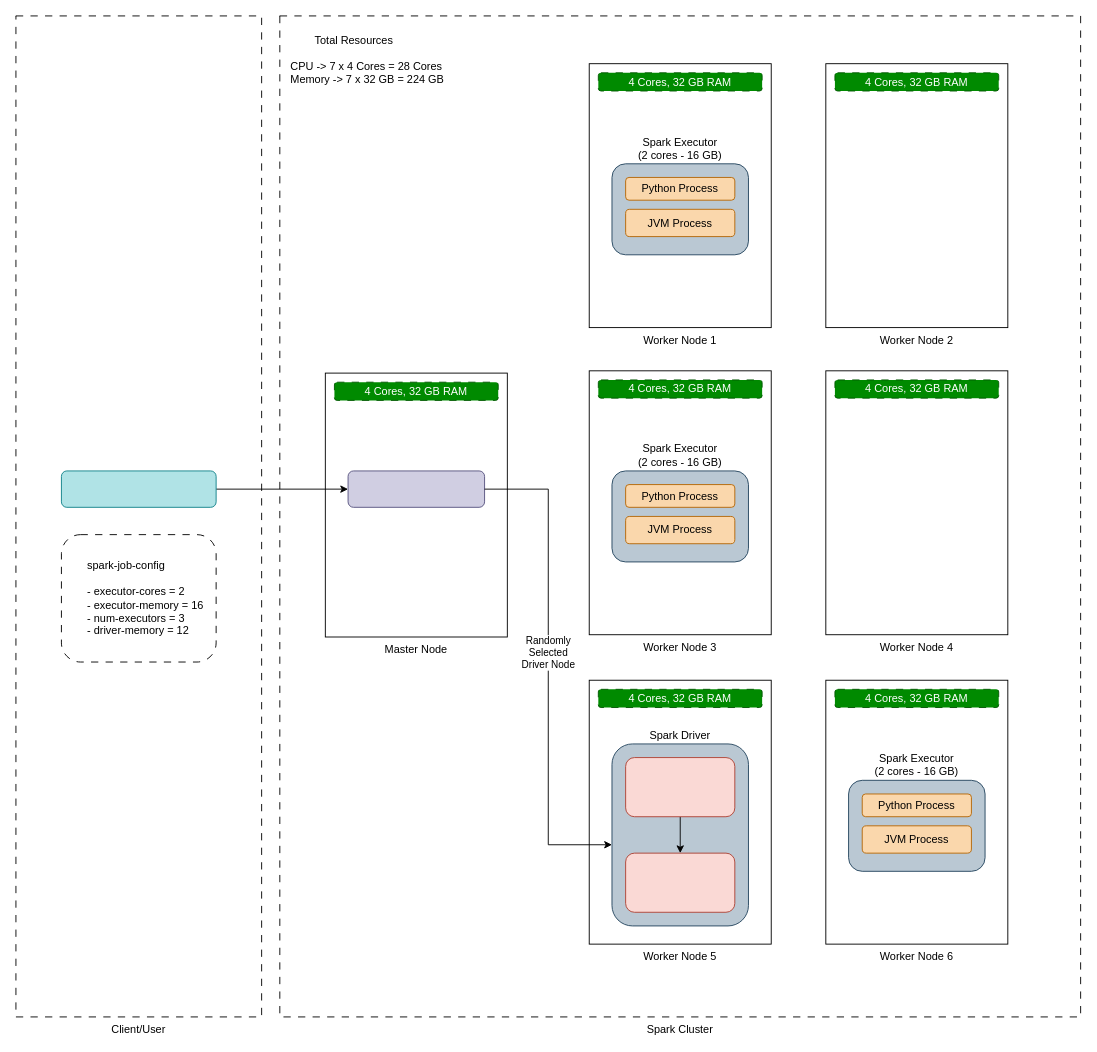
This 1097x1052 diagram has some shape labels left out. Each missing label, with the centre of its shape:
"cluster manager (K8s)" belongs at point 416,488.
"JVM (Application Driver) main()" belongs at point 680,882.
"PySpark (PySpark Driver) main()" belongs at point 680,787.
"spark-submit" belongs at point 138,488.
